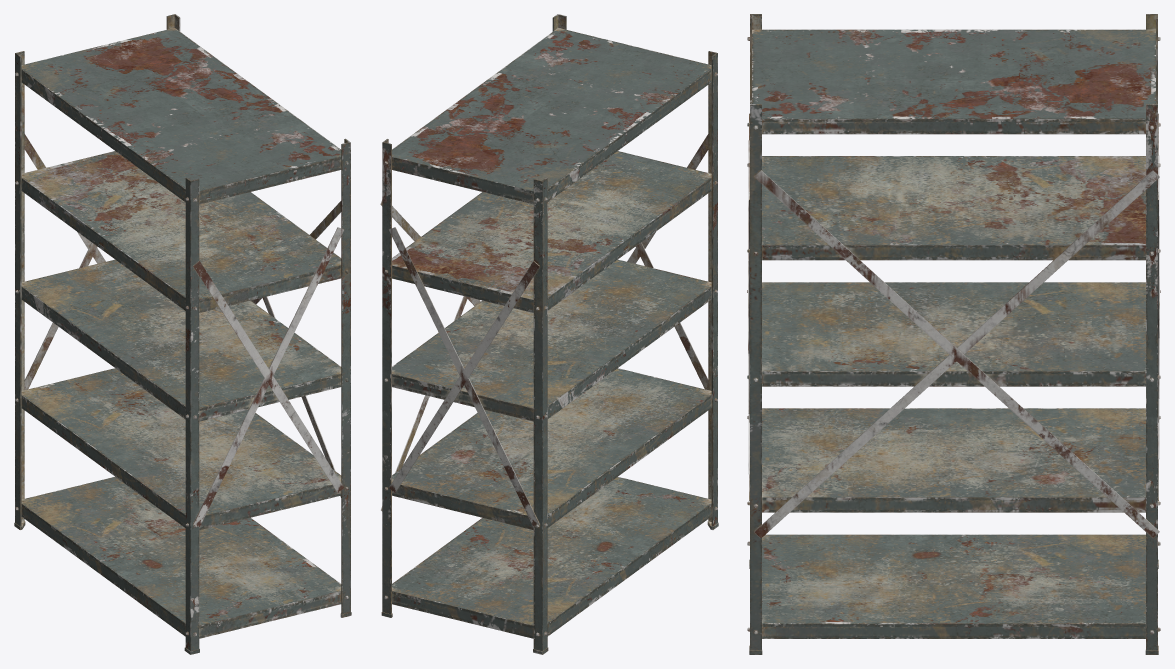
File: SM_MetalShelve_01.fbx
3 renders of one model, left to right at view 1: azimuth 30°, elevation 25°; view 2: azimuth 150°, elevation 25°; view 3: azimuth 270°, elevation 25°, orthographic. The views are drawn at different scales.
Parts seen in each view (by area): view 1: SM_MetalShelve_01_LOD0; view 2: SM_MetalShelve_01_LOD0; view 3: SM_MetalShelve_01_LOD0.
Boxes of the visible parts, left/top/right/bottom form: SM_MetalShelve_01_LOD0: left=14, top=14, right=351, bottom=654; SM_MetalShelve_01_LOD0: left=380, top=14, right=718, bottom=654; SM_MetalShelve_01_LOD0: left=747, top=14, right=1160, bottom=654.
Size of the model in its own units: 66.49 by 125 by 183.
1 material, 1 textured.
